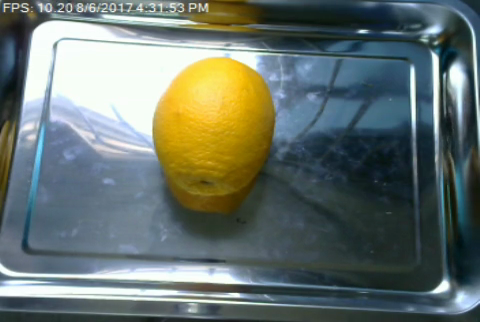Orange: (151, 57, 275, 194)
